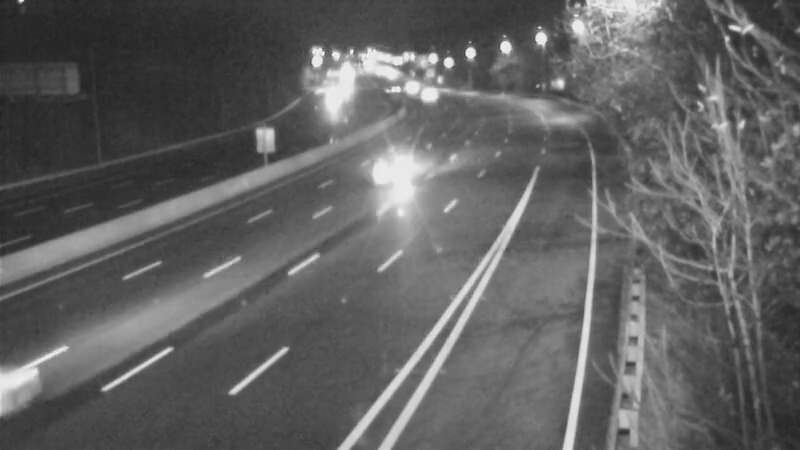vehicle: (346, 127, 426, 207), (386, 64, 436, 114), (369, 65, 419, 115), (402, 67, 452, 117)
